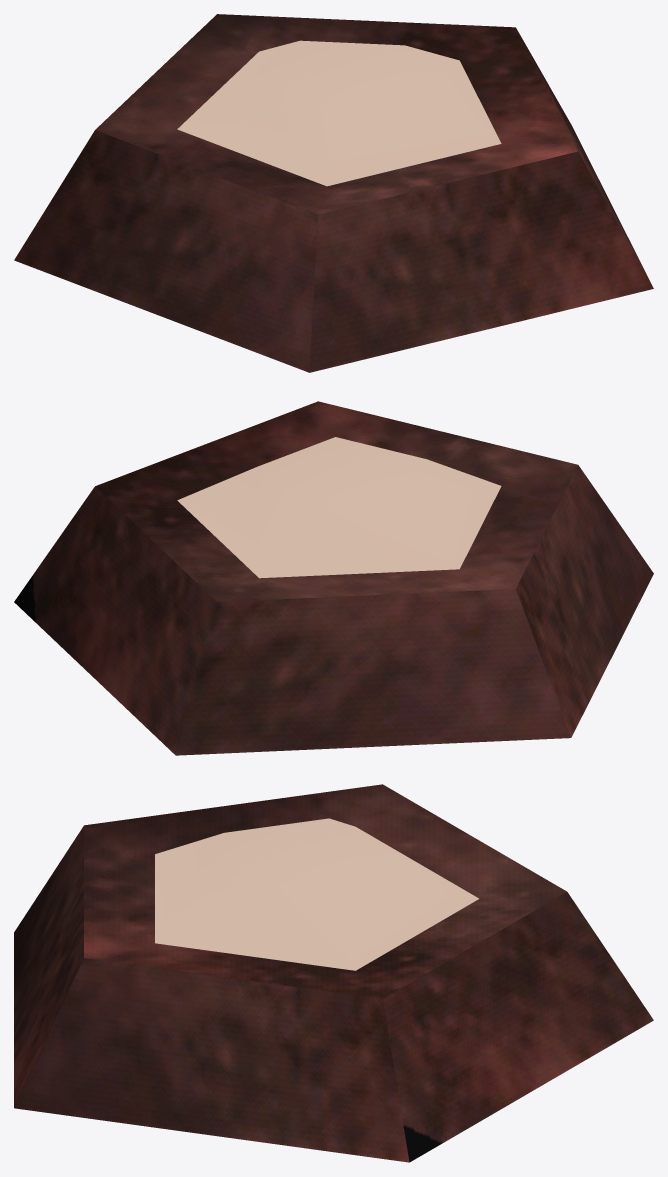
The model's file is Barnacle.glb.
3 renders of one model, top to bottom at view 1: azimuth 30°, elevation 25°; view 2: azimuth 150°, elevation 25°; view 3: azimuth 270°, elevation 25°, orthographic. The views are drawn at different scales.
Visible parts, largest first — view 1: Cylinder; view 2: Cylinder; view 3: Cylinder.
Part boxes in pixels (x1,y1,x2,y2): Cylinder: (14,14,653,372); Cylinder: (14,401,653,755); Cylinder: (14,784,653,1162).
Bounding box in the file's own units: 3.11 × 0.8379 × 2.96.
2 materials, 1 textured.
